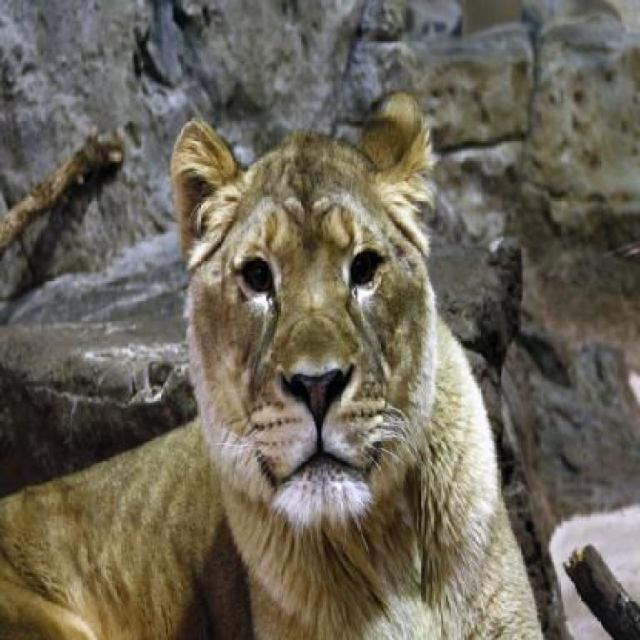Lion: (1, 81, 542, 638)
